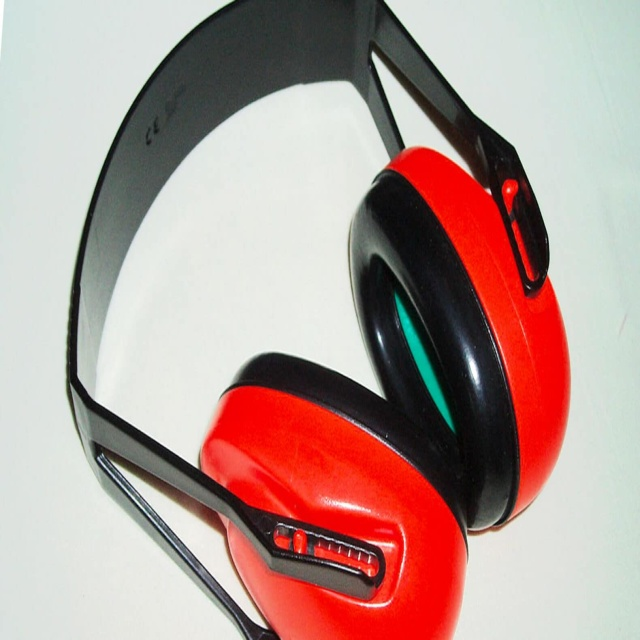Hearing_Protection: (50, 6, 623, 639)
